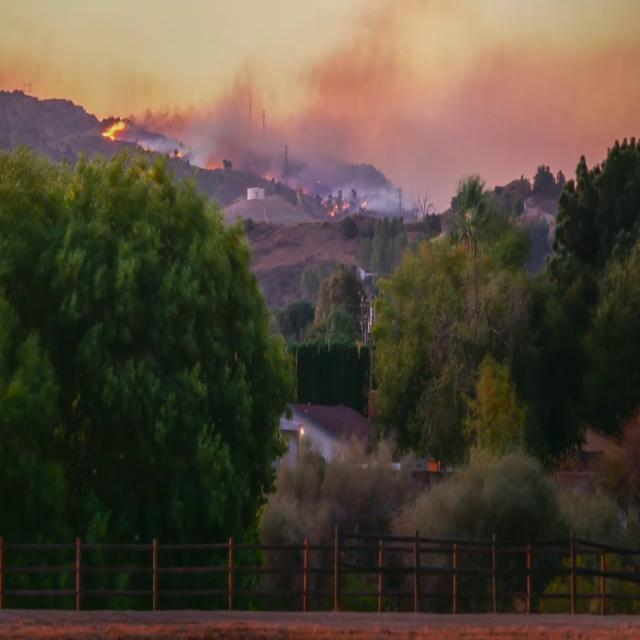Fire: (101, 118, 133, 138)
Smoke: (317, 76, 487, 164)
